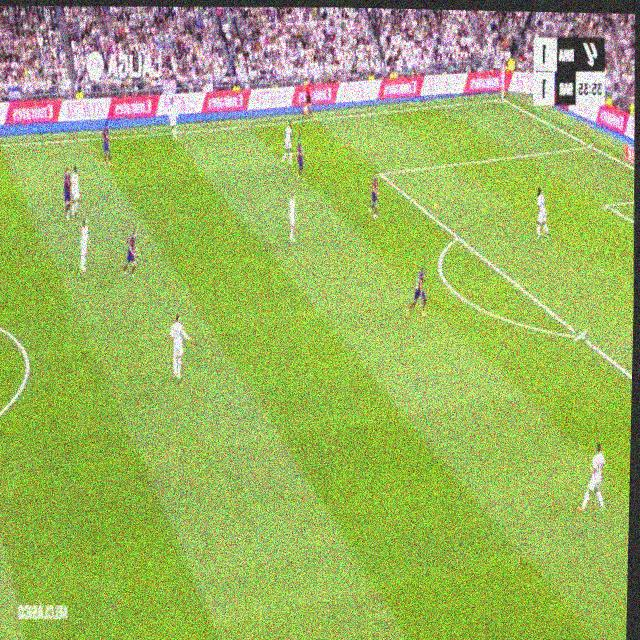bigarea_top_inner: (378, 165, 385, 182)
bigarea_top_outter: (585, 137, 593, 150)
bottom_arc_area_intersection: (574, 322, 586, 347)
corner: (497, 92, 508, 104)
smallarea_top_inner: (604, 198, 611, 214)
top_arc_area_intersection: (453, 226, 462, 246)
